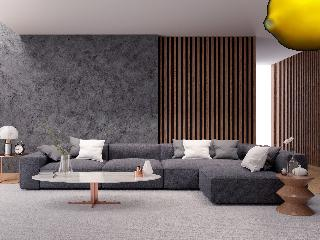lemon: (264, 0, 320, 50)
